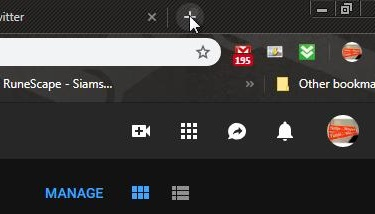cursor: (187, 14, 201, 34)
